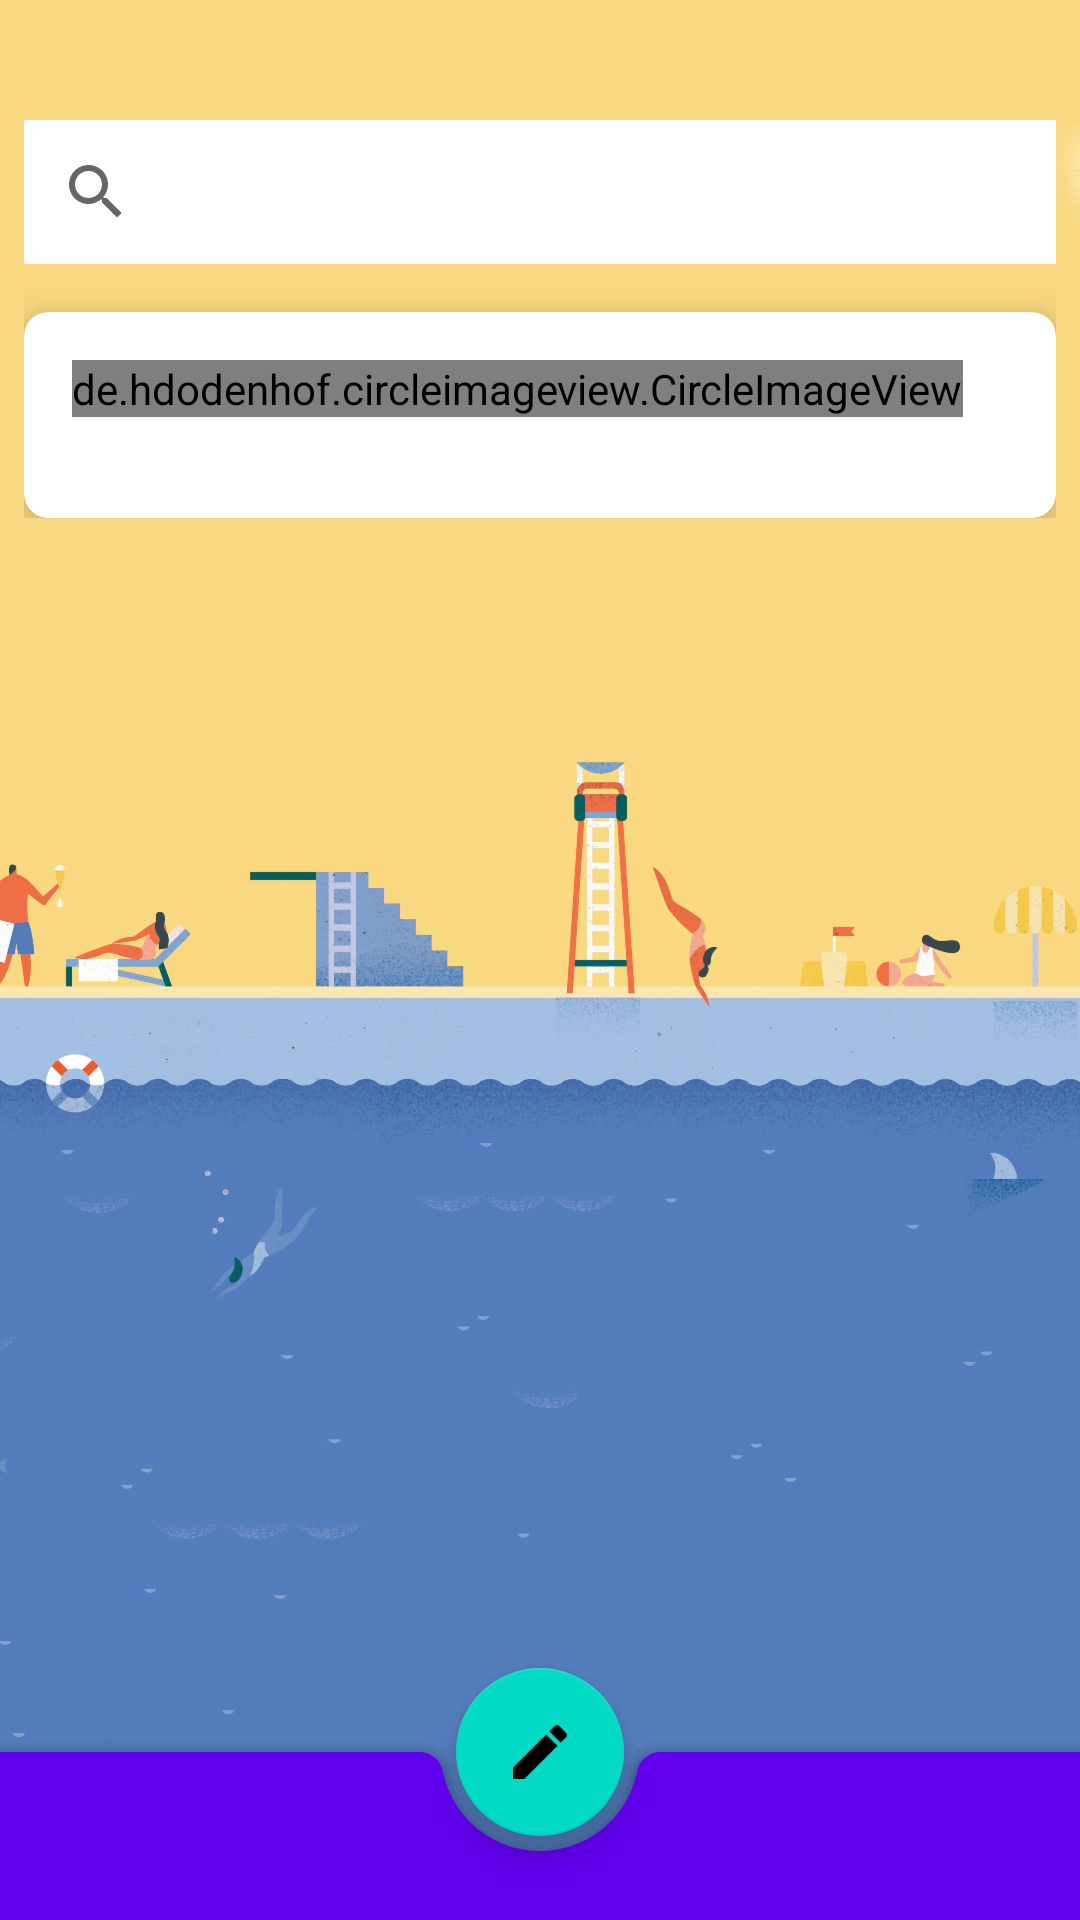

Point at icon controls on the screen. Image size 1080 × 1920, points as (x=x, y=y).
edit: (x=540, y=1752)
